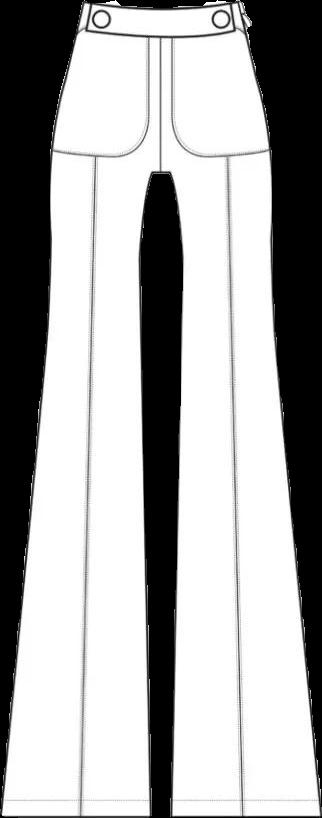Hemline: (0, 805, 154, 817), (168, 805, 321, 817)
Pantleg: (157, 0, 320, 817), (3, 2, 158, 816)
Waistline: (78, 22, 248, 46), (81, 0, 242, 14)
